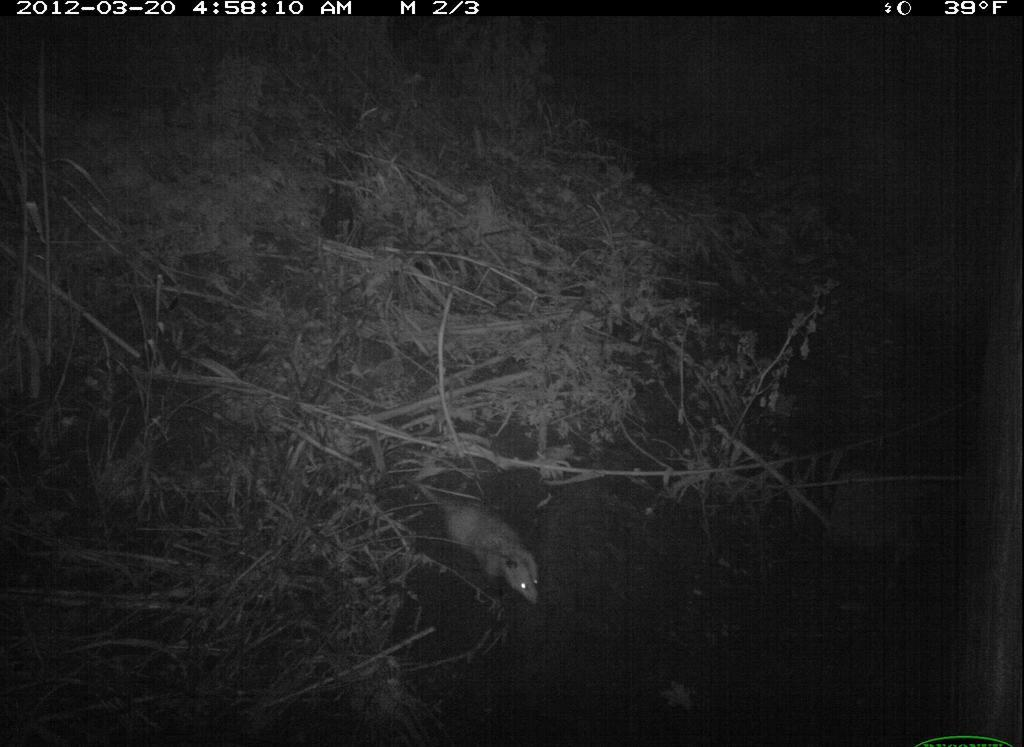opossum: (397, 459, 565, 614)
